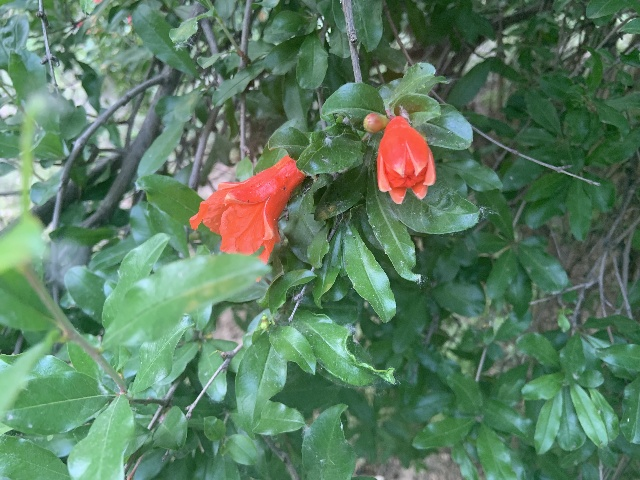bud: (362, 112, 389, 133)
flower: (190, 154, 305, 265), (376, 115, 436, 203)
